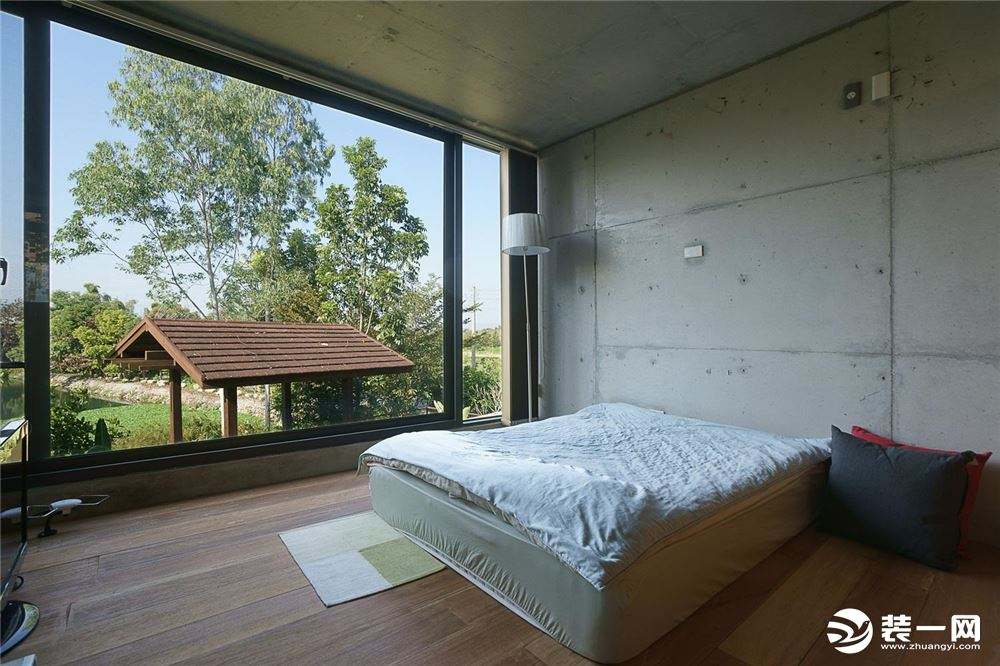床: (354, 406, 834, 641)
灯: (495, 209, 564, 424)
